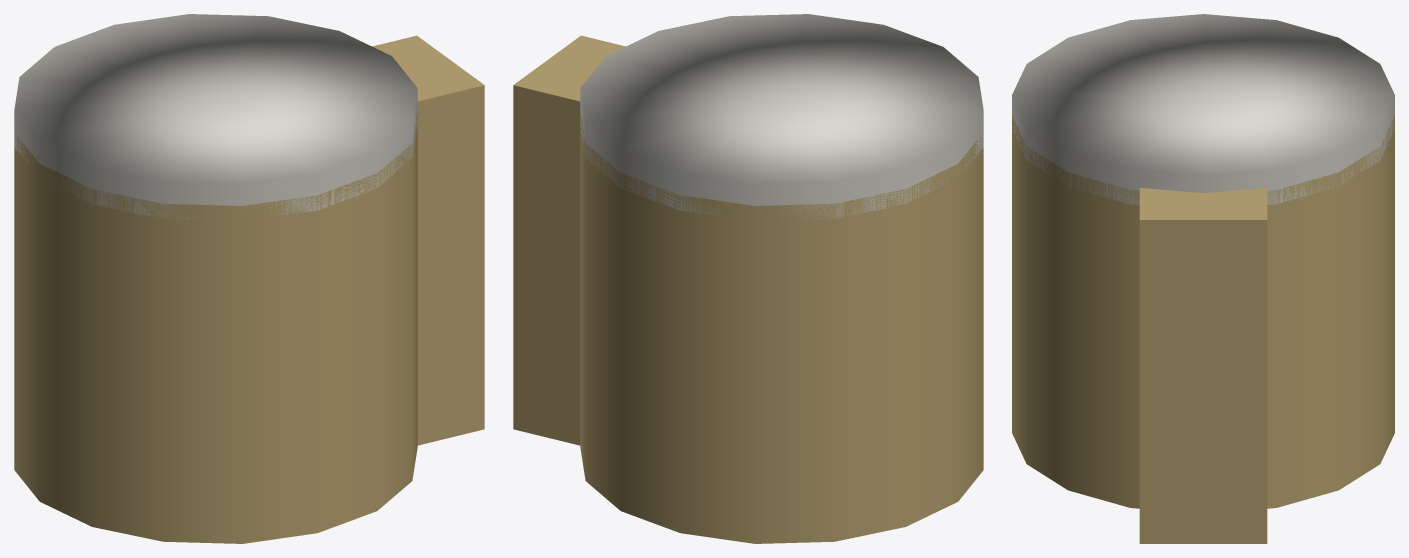
File: equip-mug.glb
The picture shows the model from 3 angles, left to right: view 1: azimuth 30°, elevation 25°; view 2: azimuth 150°, elevation 25°; view 3: azimuth 270°, elevation 25°; orthographic projection. The views are drawn at different scales.
Visible parts, largest first — view 1: equip_mug; view 2: equip_mug; view 3: equip_mug.
Boxes of the visible parts, left/top/right/bottom form: equip_mug: left=14, top=14, right=484, bottom=543; equip_mug: left=513, top=14, right=983, bottom=543; equip_mug: left=1012, top=14, right=1394, bottom=543.
Bounding box in the file's own units: 0.7 × 0.59 × 0.6.
